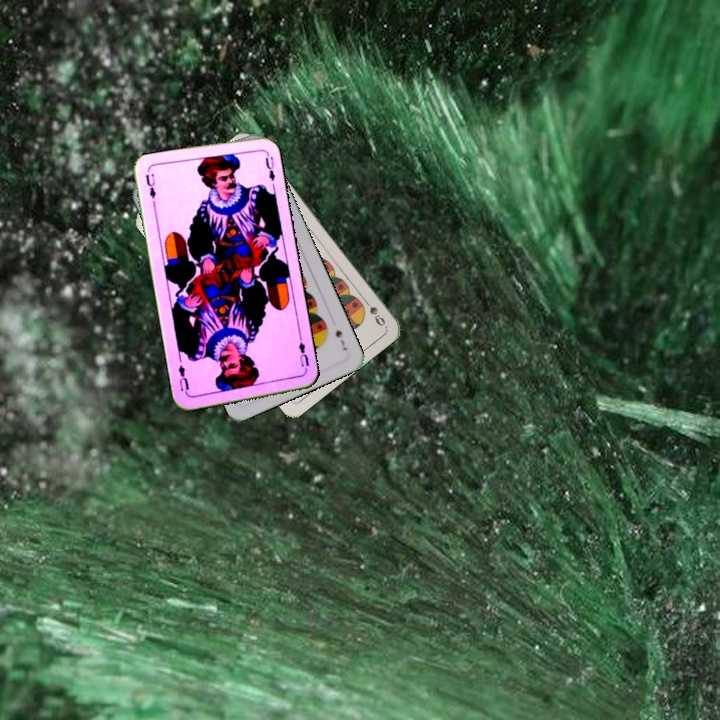EU: (294, 338, 312, 374), (141, 169, 158, 201)
S7: (331, 326, 350, 353)
S9: (358, 294, 388, 329)
